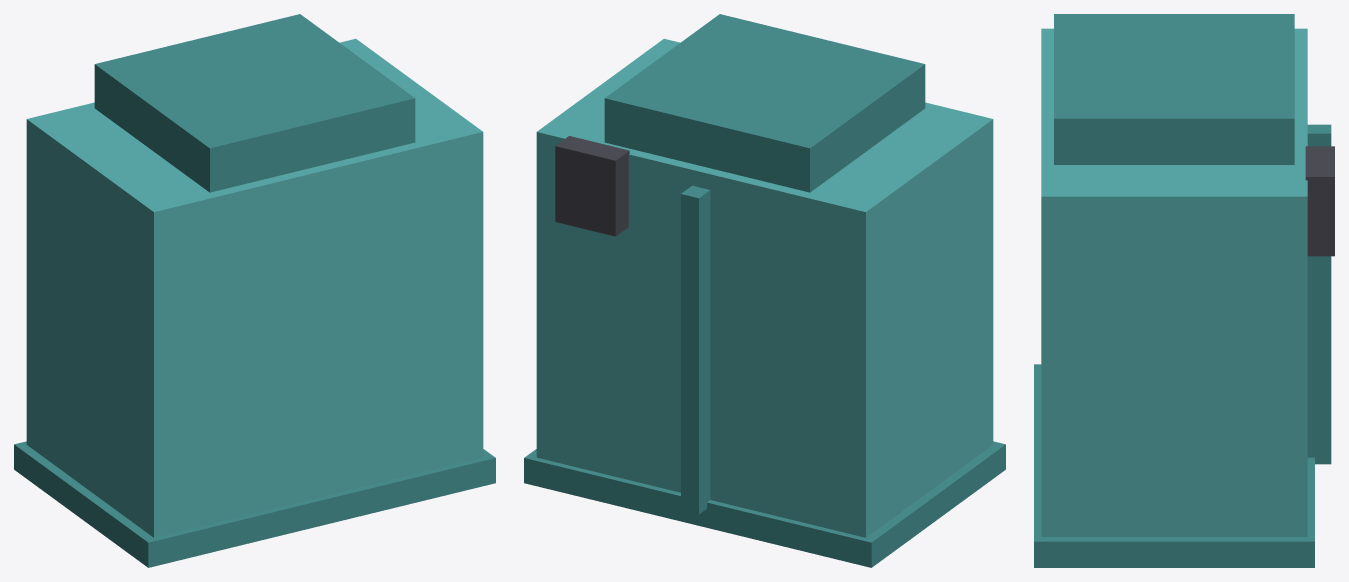
File: surfista_tronco.glb
3 views of the same model, side by side, from view 1: azimuth 30°, elevation 25°; view 2: azimuth 150°, elevation 25°; view 3: azimuth 270°, elevation 25° (orthographic). The views are drawn at different scales.
Visible parts, largest first — view 1: surfista_tronco; view 2: surfista_tronco; view 3: surfista_tronco.
Part boxes in pixels (<box>): surfista_tronco: <box>14,14,495,567</box>; surfista_tronco: <box>524,14,1005,567</box>; surfista_tronco: <box>1034,14,1334,567</box>.
Bounding box in the file's own units: 0.575 × 0.625 × 0.4125.
